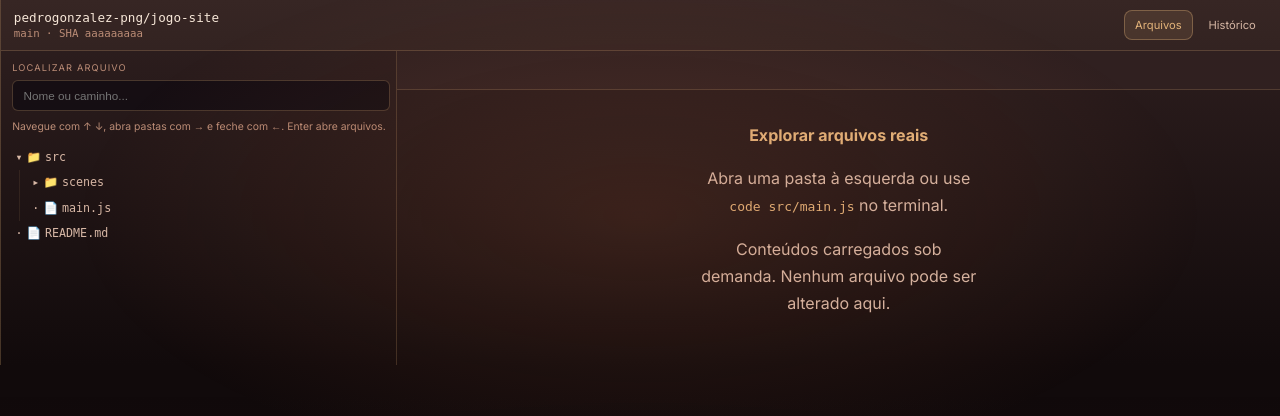
Test case: readonly GitHub explorer UI › shows a real commit timeline without fabricated entries
Click the button "Histórico": (1232, 25) [1197,10,1267,40]
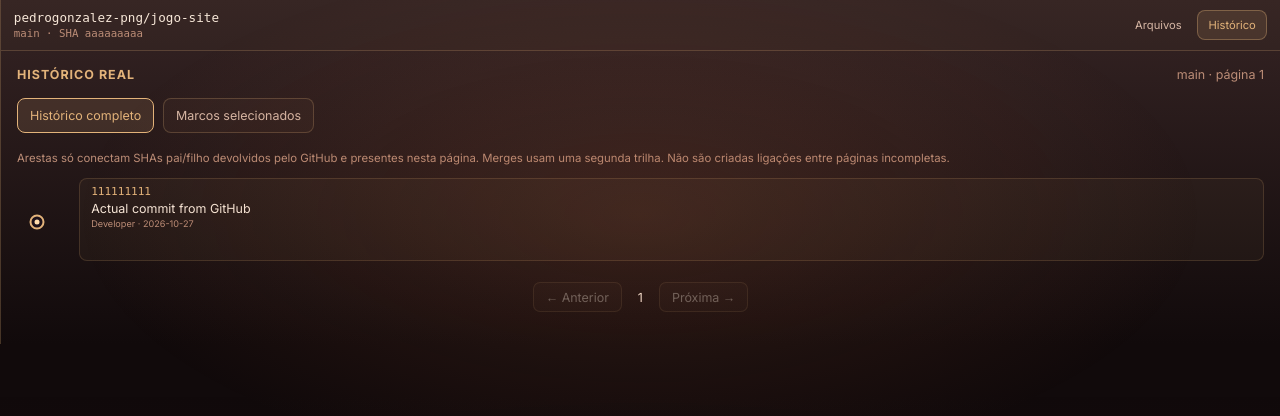
Expected: the text "Actual commit from GitHub" is shown, [91,201,251,216]
